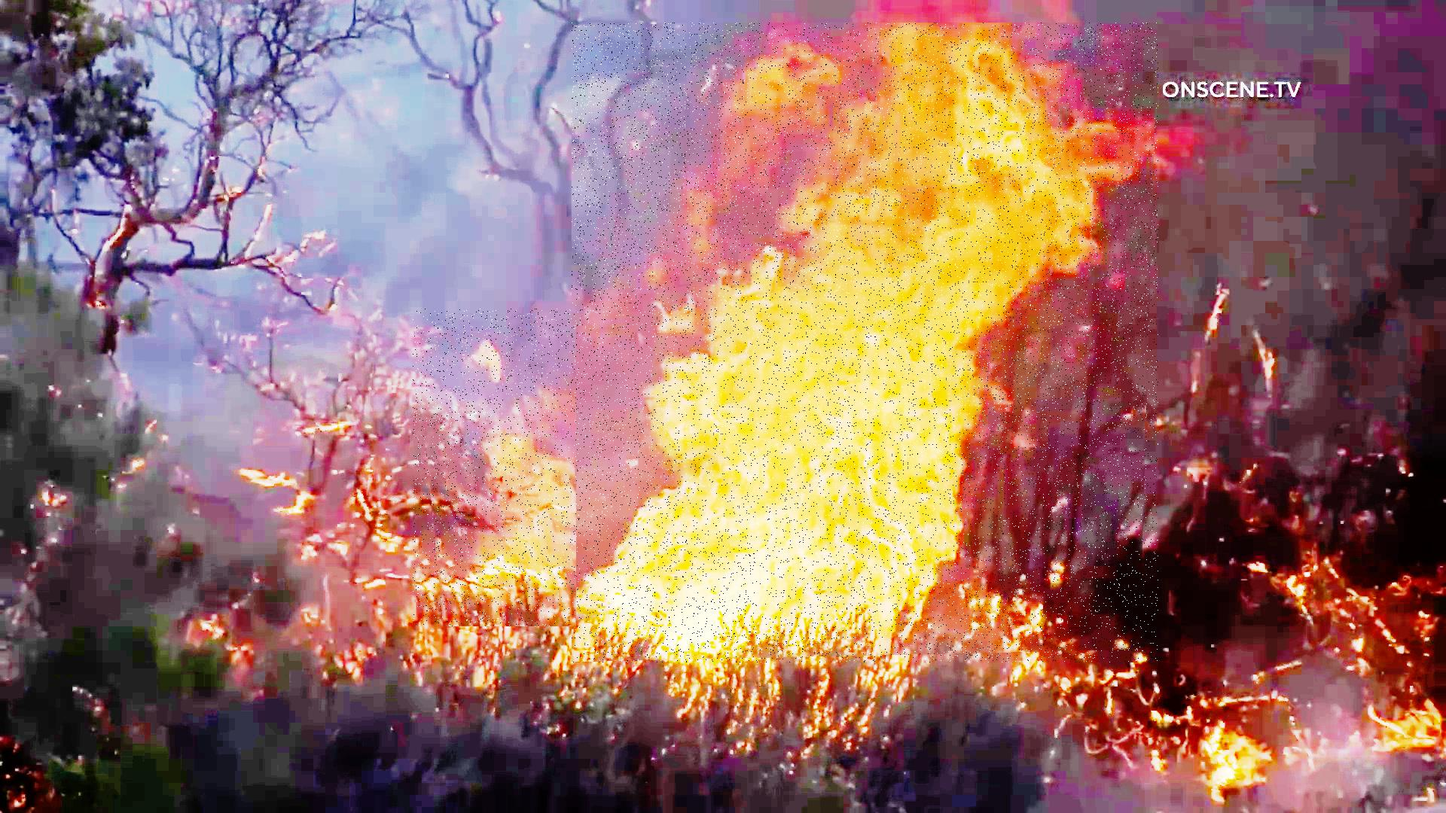fire: (572, 23, 1158, 663), (413, 309, 576, 627)
